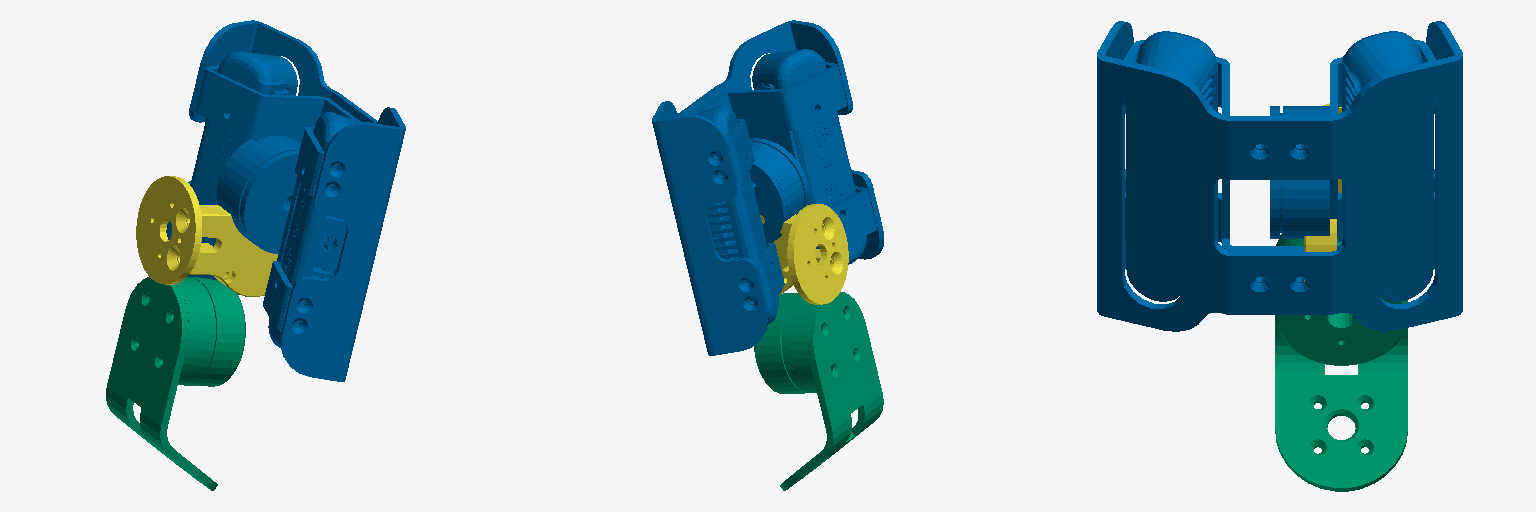
The robot description file, URDF, robot "Gimbal":
<?xml version="1.0" encoding="utf-8"?>

<robot name="Gimbal">
    <link name="base"/>

    <joint name="baseTomount" type="fixed">
        <parent link="base"/>
        <child link="mount"/>
        <origin xyz="0 0 0"/>
    </joint>

    <link name="mount">
        <visual>
            <origin rpy="0 0 0" xyz="0 0 0"/>
            <geometry>
                <mesh filename="package://resource/meshes/base.STL" scale="0.001 0.001 0.001"/>
            </geometry>
        </visual>
    </link>

    <joint name="yaw" type="revolute">
        <parent link="mount"/>
        <child link="yawtoroll"/>
        <origin rpy="0 0.78539816339 0" xyz="0.06778 0 0.05748"/>
        <axis xyz="0 0 1"/>
        <dynamics damping="0.0" friction="0.0"/>
    </joint>

    <link name="yawtoroll">
        <visual>
            <origin rpy="0 0 0" xyz="0 0 0"/>
            <geometry>
                <mesh filename="package://resource/meshes/yawrolllink.STL" scale="0.001 0.001 0.001"/>
            </geometry>
        </visual>
    </link>

    <joint name="roll" type="revolute">
        <parent link="yawtoroll"/>
        <child link="rolltopitch"/>
        <origin rpy="0 -0.523599 0" xyz="-0.01866 0 0.04708"/>
        <axis xyz="1 0 0"/>
    </joint>

    <link name="rolltopitch">
        <visual>
            <origin rpy="0 0 0" xyz="0 0 0"/>
            <geometry>
                <mesh filename="package://resource/meshes/rollpitchlink.STL" scale="0.001 0.001 0.001"/>
            </geometry>
        </visual>
    </link>

    <joint name="pitch" type="revolute">
        <parent link="rolltopitch"/>
        <child link="cameraframe"/>
        <origin xyz="0.035 -0.004 0"/>
        <axis xyz="0 1 0"/>
    </joint>

    <link name="cameraframe">
        <visual>
            <origin rpy="0 0 0" xyz="0 0 0"/>
            <geometry>
                <mesh filename="package://resource/meshes/cameraframewithcameras.STL" scale="0.001 0.001 0.001"/>
            </geometry>
        </visual>
        <inertial>
            <origin rpy="0 0 0" xyz="0.0 0.0 0.0"/>
            <mass value="0.4"/>
            <inertia ixx="0.001" ixy="0" ixz="0" iyy="0.001" iyz="0" izz="0.001"/>
        </inertial>
    </link>

    <joint name="Lcamera" type="fixed">
        <parent link="cameraframe"/>
        <child link="cameraL"/>
        <origin rpy="0 0 0.349066" xyz="0.00832 0.03985 0.01096"/>
    </joint>

    <link name="cameraL">
    </link>

    <joint name="Rcamera" type="fixed">
        <parent link="cameraframe"/>
        <child link="cameraR"/>
        <origin rpy="0 0 -0.349066" xyz="0.00832 -0.03385 0.01096"/>
    </joint>

    <link name="cameraR">
    </link>

</robot>

--- What the picture shows (computed from the rendered views, not written in the file) ---
The picture shows the robot from 3 angles, left to right: view 1: azimuth 30°, elevation 25°; view 2: azimuth 150°, elevation 25°; view 3: azimuth 270°, elevation 25°; orthographic projection.
Model Gimbal with 7 links and 6 joints (3 revolute, 3 fixed), rooted at base, posed every joint at zero.
Links seen in each view (by area): view 1: cameraframe, yawtoroll, rolltopitch; view 2: cameraframe, yawtoroll, rolltopitch; view 3: cameraframe, yawtoroll, rolltopitch.
Link boxes in pixels (x1,y1,x2,y2): cameraframe: (166, 20, 405, 381); yawtoroll: (106, 277, 245, 490); rolltopitch: (136, 176, 277, 296); cameraframe: (652, 20, 883, 355); yawtoroll: (754, 292, 883, 490); rolltopitch: (760, 204, 848, 304); cameraframe: (1097, 21, 1462, 331); yawtoroll: (1275, 233, 1407, 491); rolltopitch: (1304, 103, 1341, 281).
Size in the robot's own frame: 0.0852 by 0.1098 by 0.1676 metres.
Meshes: 4 distinct files referenced, 3 mesh visuals loaded (3 binary STL); not drawn: 1 (reference not matched to a file when rendering).